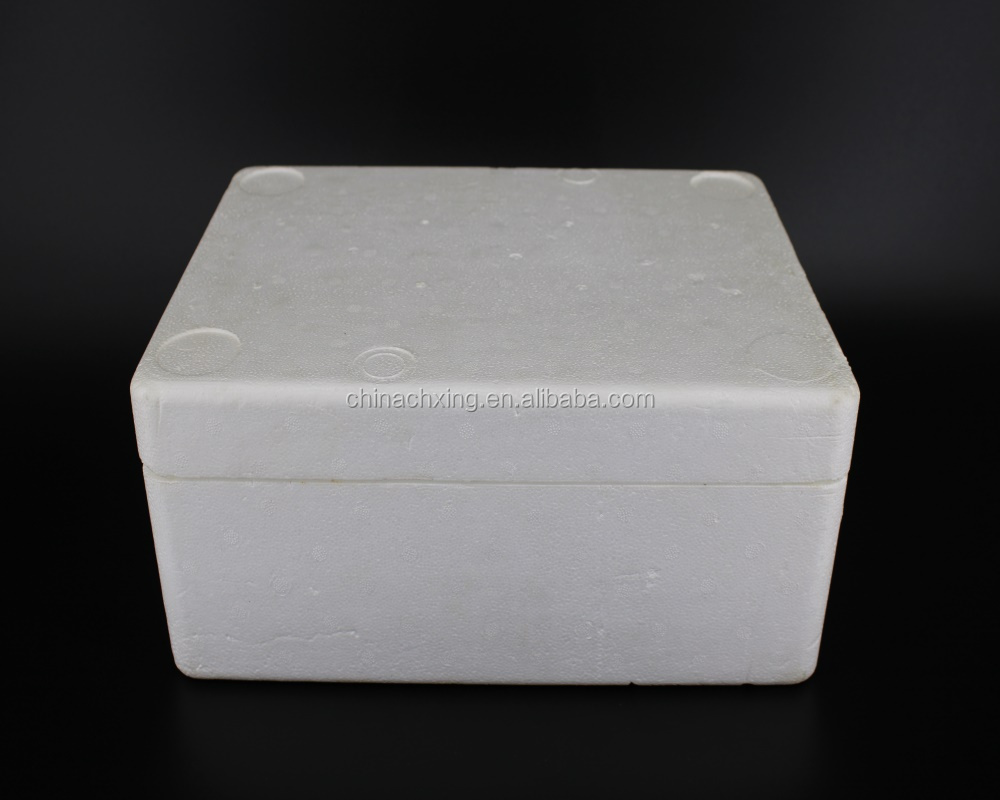泡沫箱: (131, 167, 858, 684)
